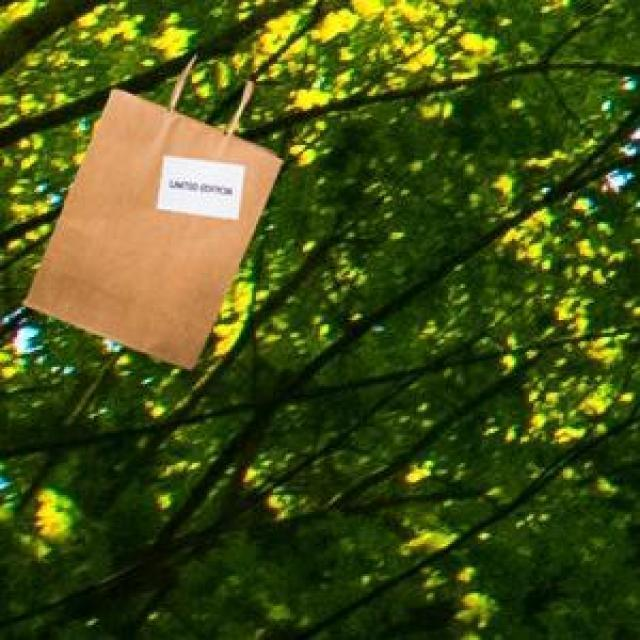paper: (19, 56, 280, 365)
